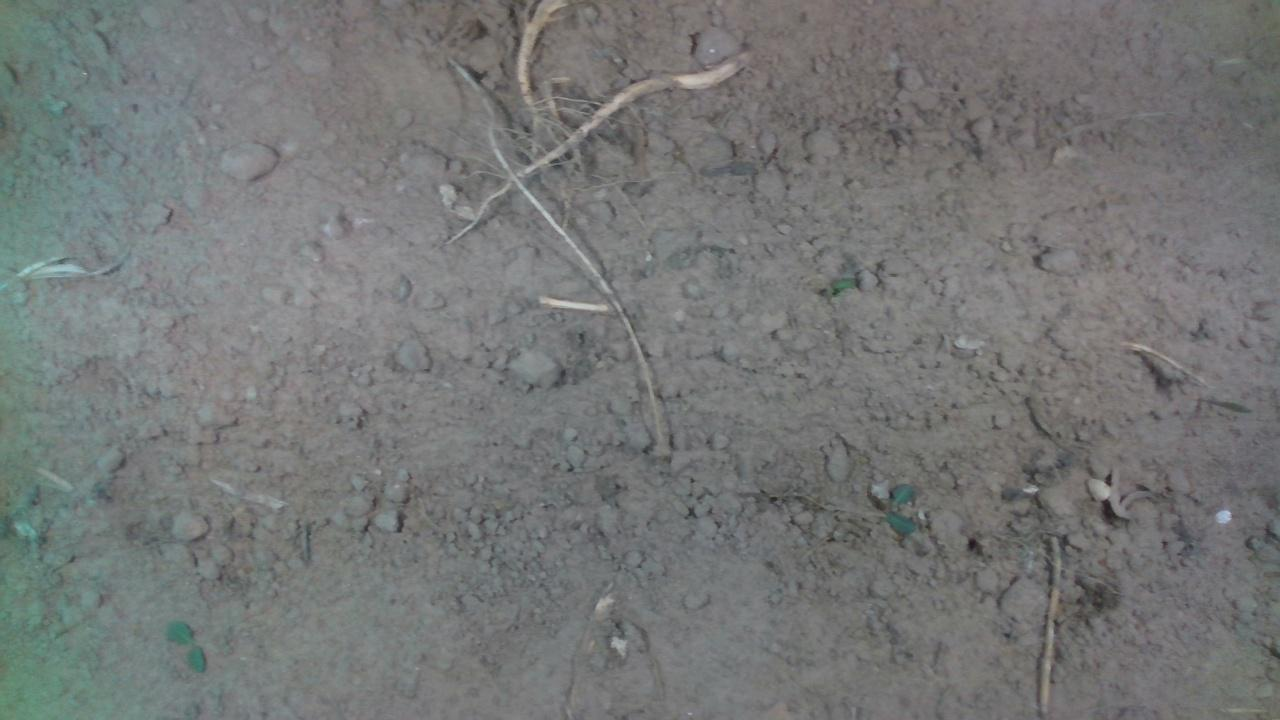weed: (163, 618, 207, 675)
